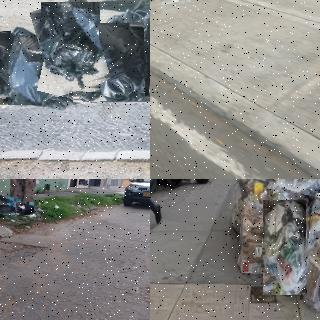Garbage: (35, 0, 105, 94), (5, 36, 76, 108), (82, 23, 145, 102), (262, 200, 307, 295), (236, 180, 274, 273), (301, 214, 320, 314), (0, 29, 13, 98), (270, 179, 320, 194), (16, 202, 34, 215), (0, 204, 14, 215), (0, 196, 14, 205)
